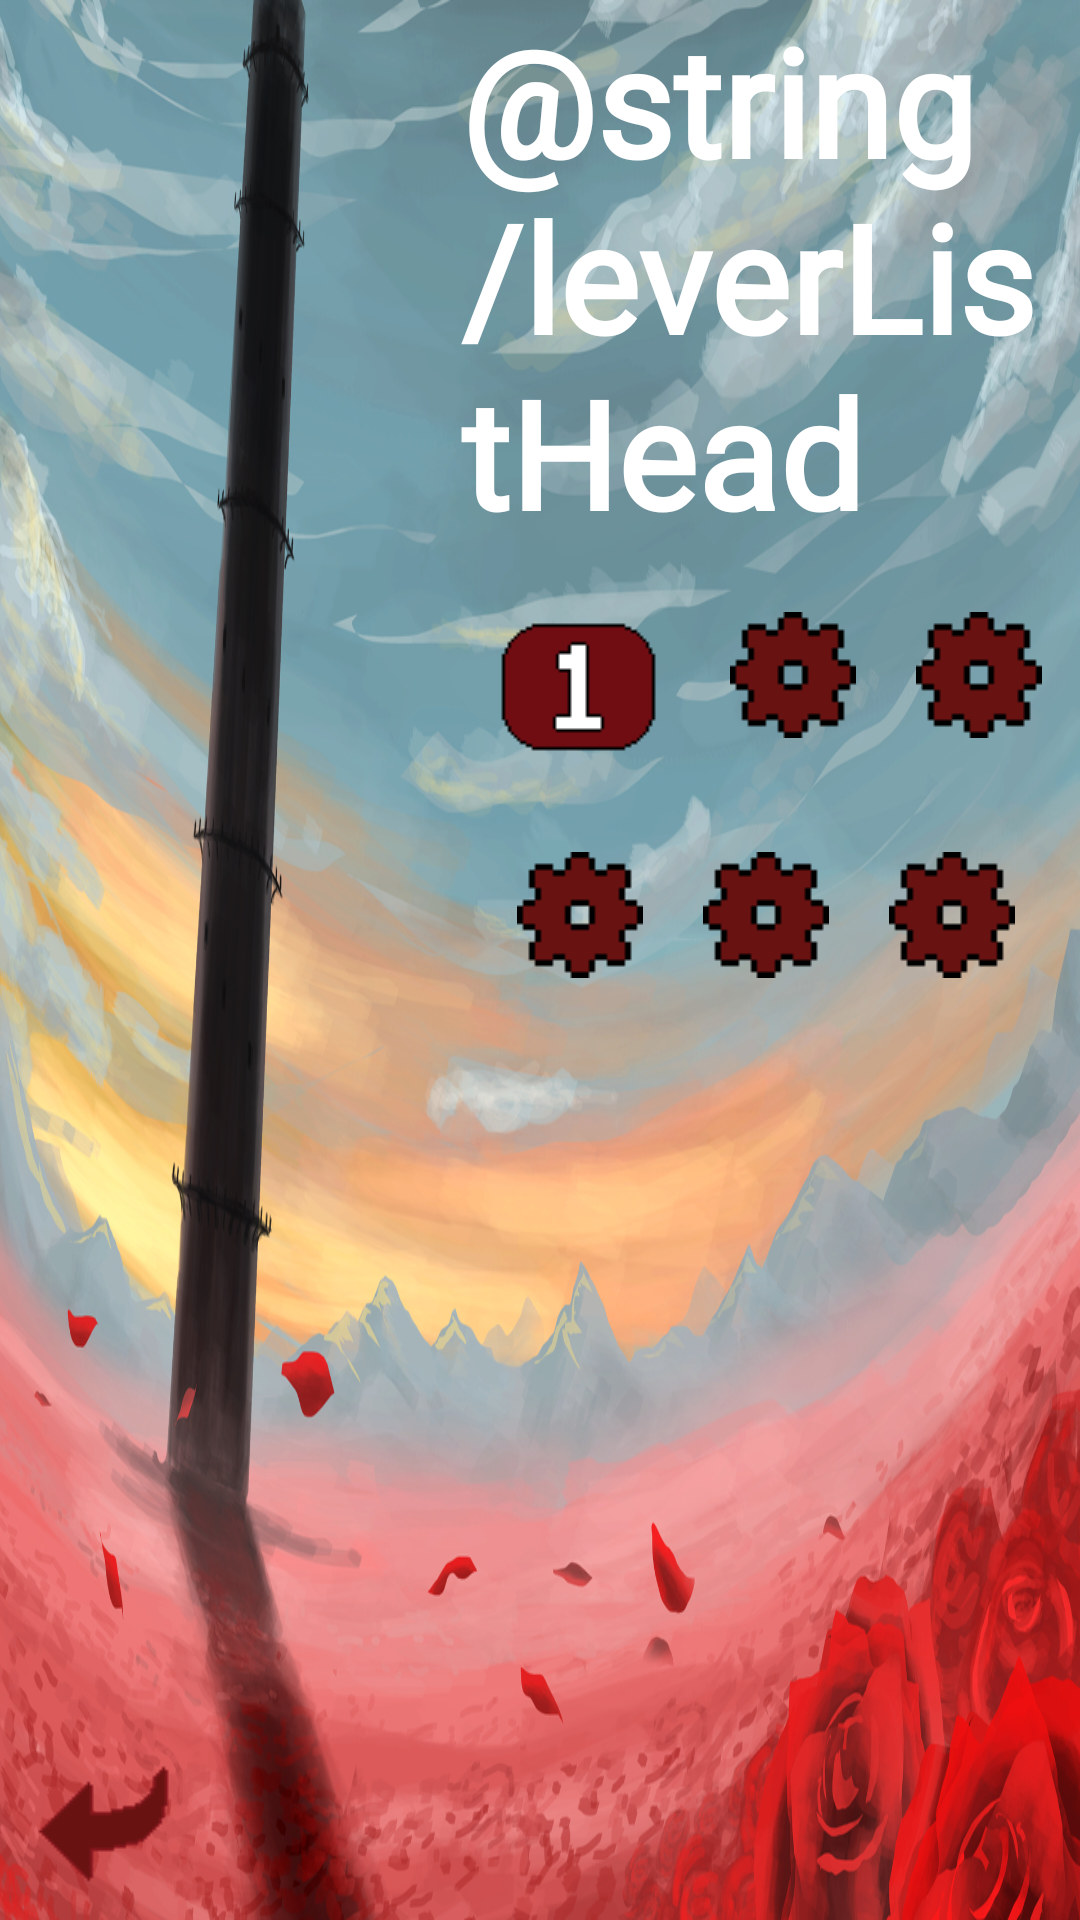

Icon click points for this 1080 x 1920 phone screenshot, format [x,y]:
level one: [580,687]
wheel settings notouch export: [793,675], [979,675], [580,915], [766,915], [952,915]
